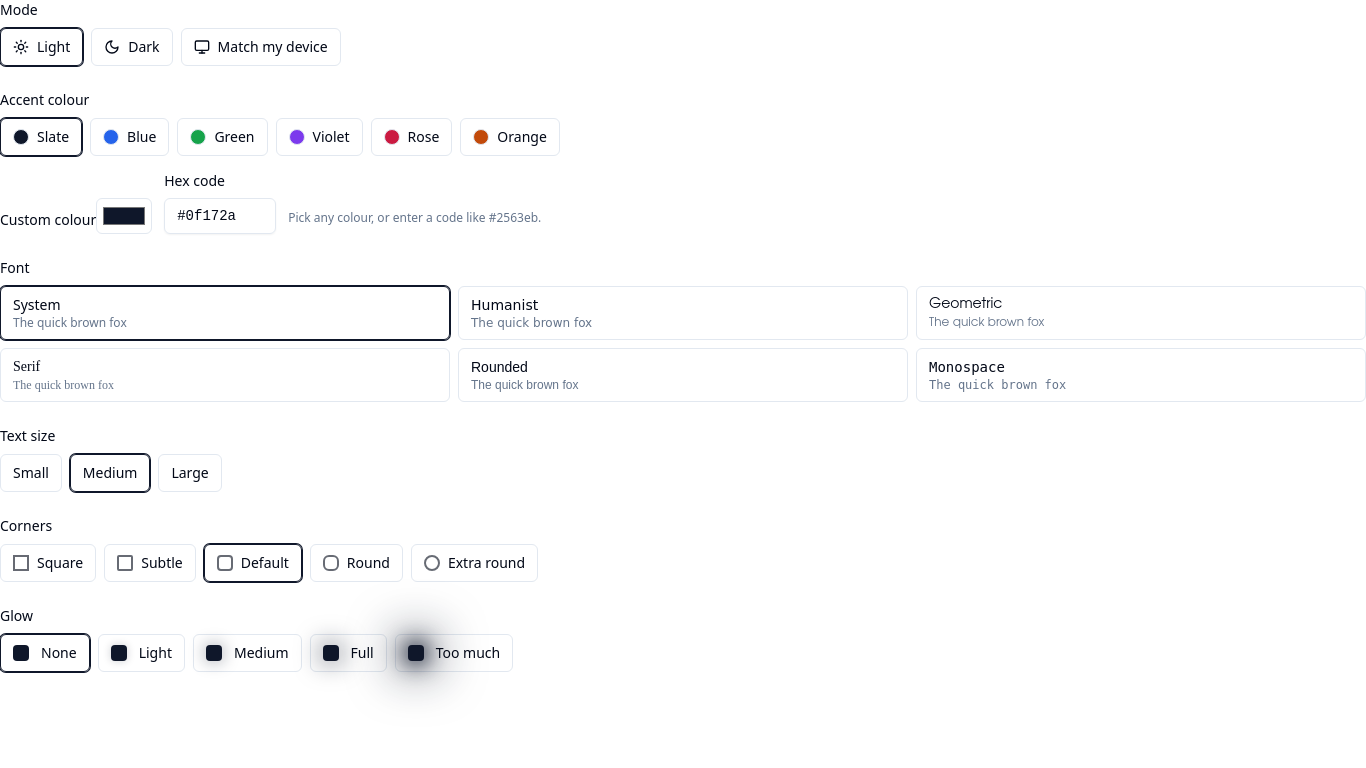
Test: ThemeEditor › shows a readability warning for a low-contrast colour
Expected: the text "readability check" is not shown
Replace the text in the field labelled "Hex code" with "#fff3a0". click: (220, 216)
box: [164,198,276,234]
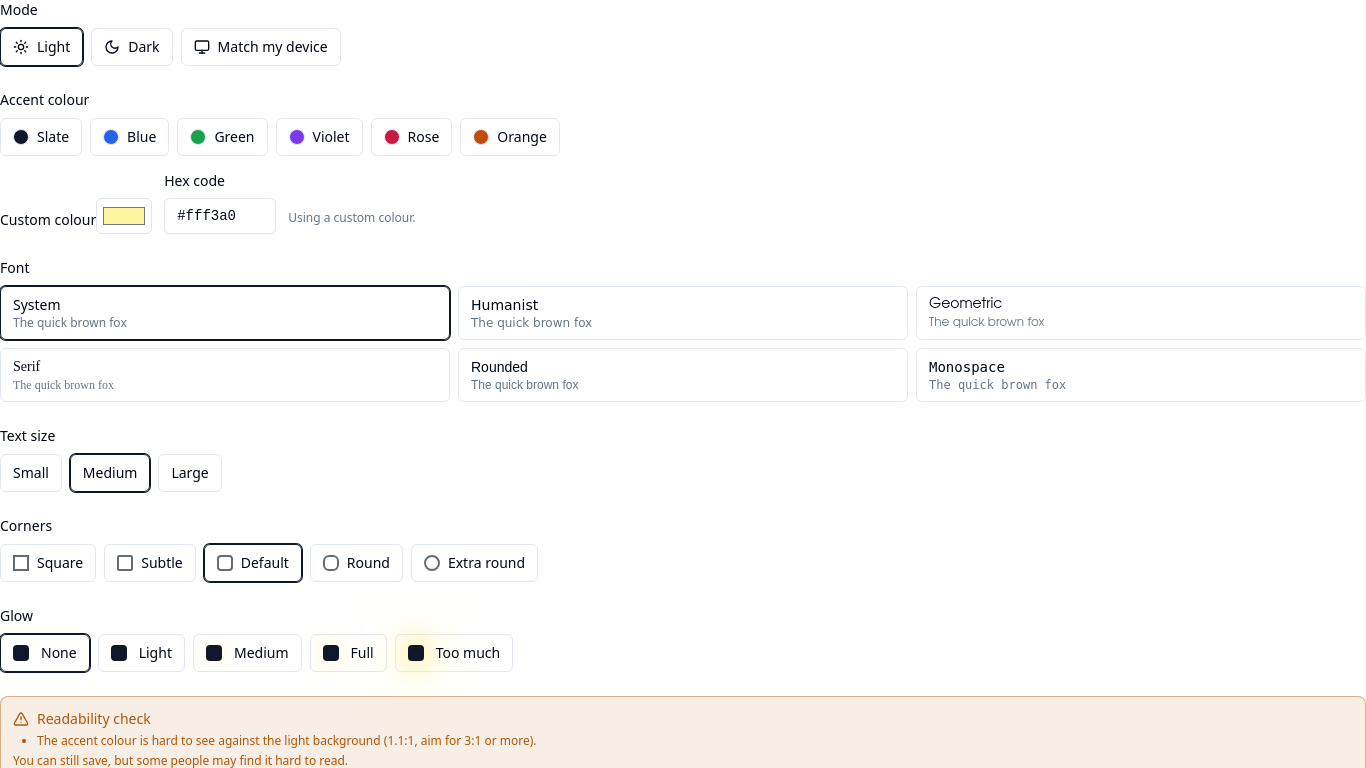
Now the text "Readability check" is shown, box [13,709,151,728]
